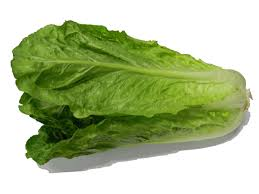lettuce: (23, 22, 251, 163)
